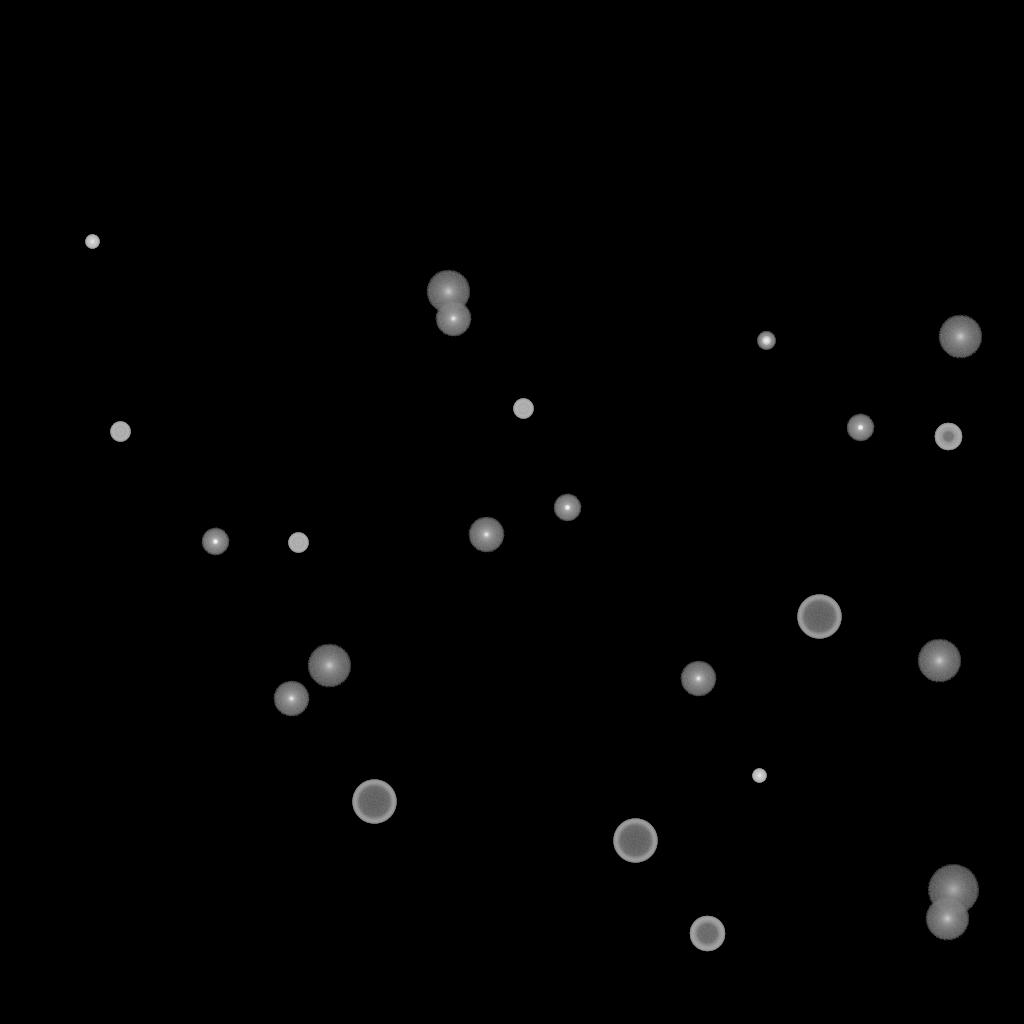depth:-10: (553, 494, 581, 522), (201, 528, 229, 556), (846, 414, 874, 442)
depth:-20: (757, 332, 775, 350)
depth:-30: (752, 769, 766, 783), (85, 235, 99, 249)
depth:-40: (513, 399, 533, 419), (288, 533, 308, 553), (110, 422, 130, 442)
depth:-50: (934, 423, 962, 451)
depth:-60: (689, 916, 725, 952)
depth:-70: (613, 819, 657, 863), (797, 595, 841, 639), (352, 780, 396, 824)
depth:0: (435, 301, 471, 337), (468, 517, 504, 553), (680, 661, 716, 697), (273, 681, 309, 717)
depth:10: (426, 270, 470, 314), (938, 315, 982, 359), (307, 644, 351, 688), (925, 897, 969, 941), (917, 639, 961, 683)
depth:20: (927, 865, 979, 915)
